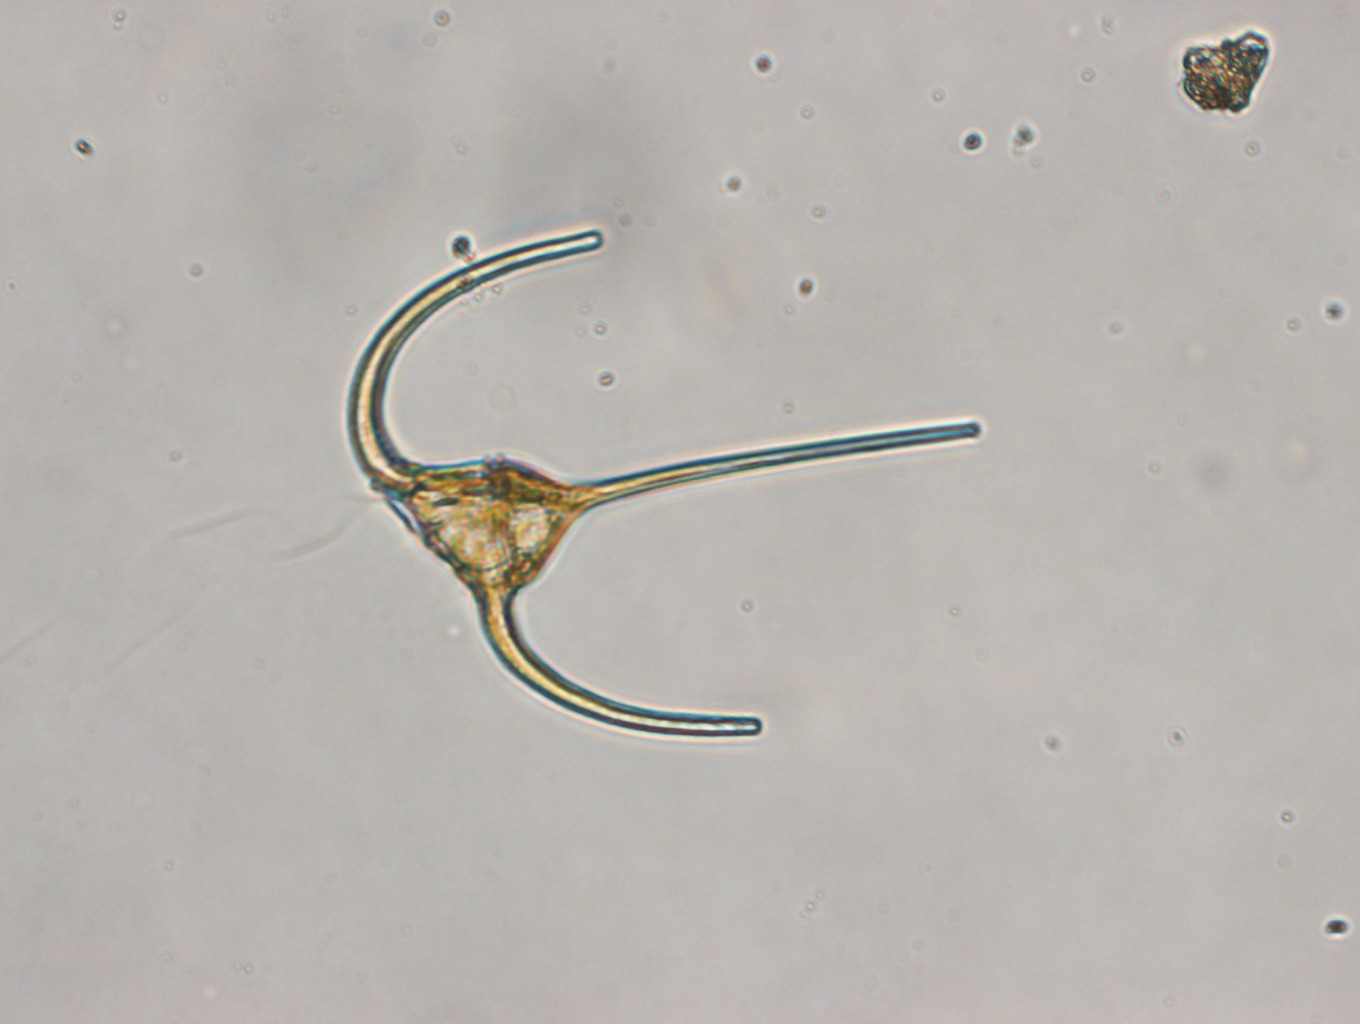ceratium trichoceros: (345, 228, 983, 739)
